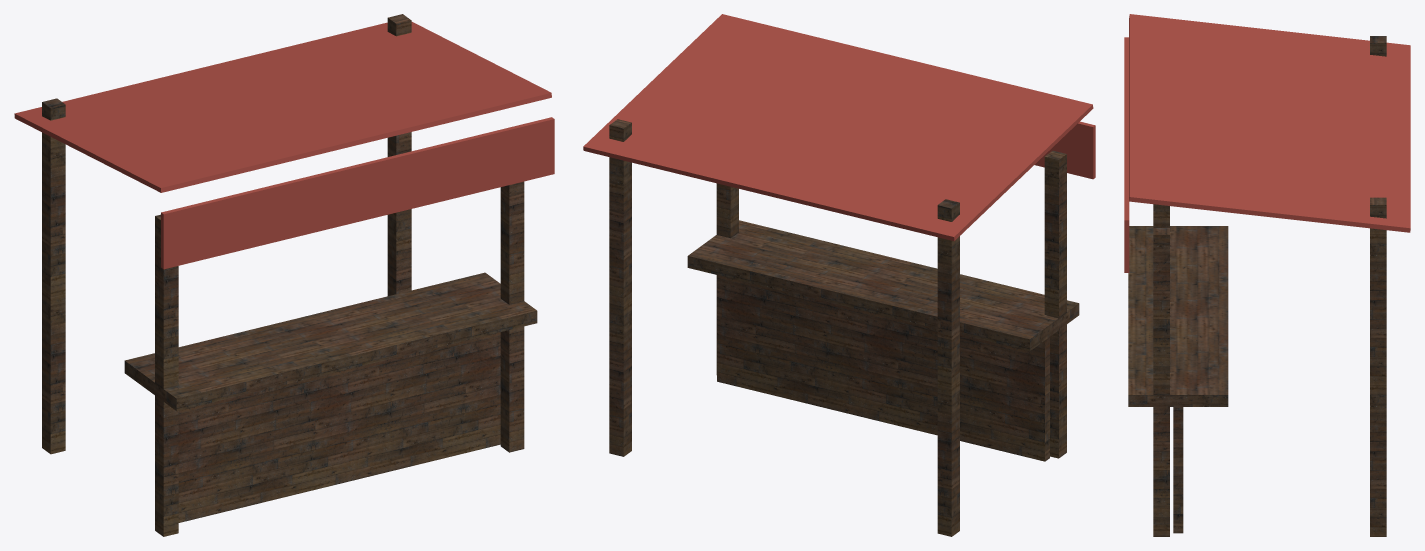
File: market_stall.glb
3 renders of one model, left to right at view 1: azimuth 30°, elevation 25°; view 2: azimuth 150°, elevation 25°; view 3: azimuth 270°, elevation 25°, orthographic. The views are drawn at different scales.
Visible parts, largest first — view 1: market_stall; view 2: market_stall; view 3: market_stall.
Part boxes in pixels (x1,y1,x2,y2): market_stall: (14,14,554,536); market_stall: (583,14,1095,536); market_stall: (1124,14,1410,536).
Bounding box in the file's own units: 2.6 × 2.3 × 1.72.
2 materials, 1 textured.
